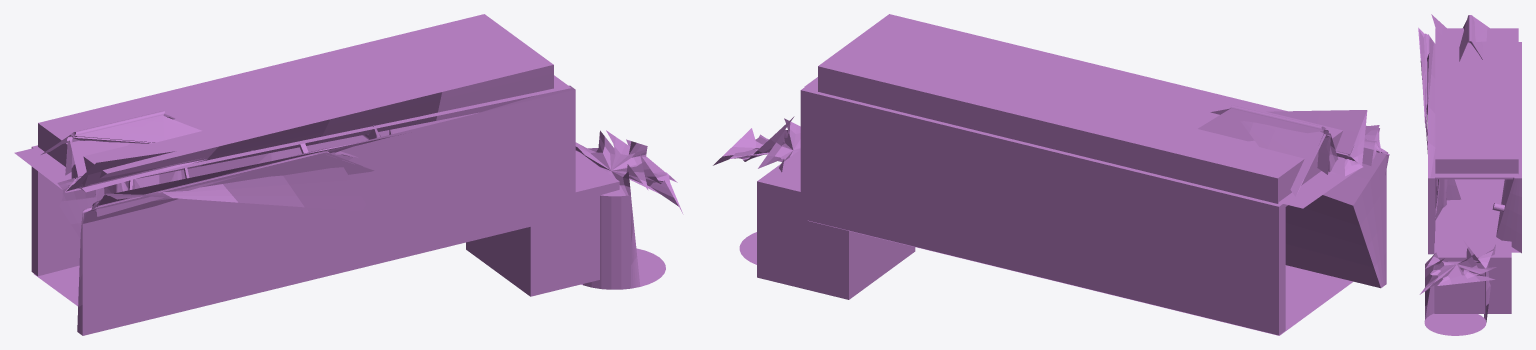
Rendered from MainPlatform3.fbx.
The picture shows the model from 3 angles, left to right: view 1: azimuth 30°, elevation 25°; view 2: azimuth 150°, elevation 25°; view 3: azimuth 270°, elevation 25°; orthographic projection. The views are drawn at different scales.
Parts seen in each view (by area): view 1: Cube; view 2: Cube; view 3: Cube.
Part boxes in pixels (bbox=[...]): Cube: bbox=[14, 14, 683, 335]; Cube: bbox=[713, 14, 1389, 335]; Cube: bbox=[1418, 14, 1521, 335].
Bounding box in the file's own units: 1352 × 547 × 335.
